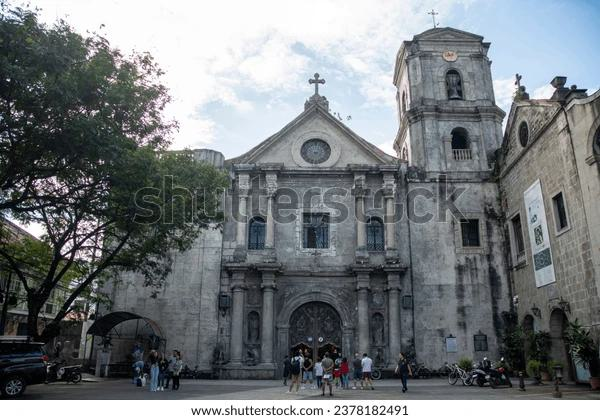San Agustin Church: (221, 8, 515, 374)
